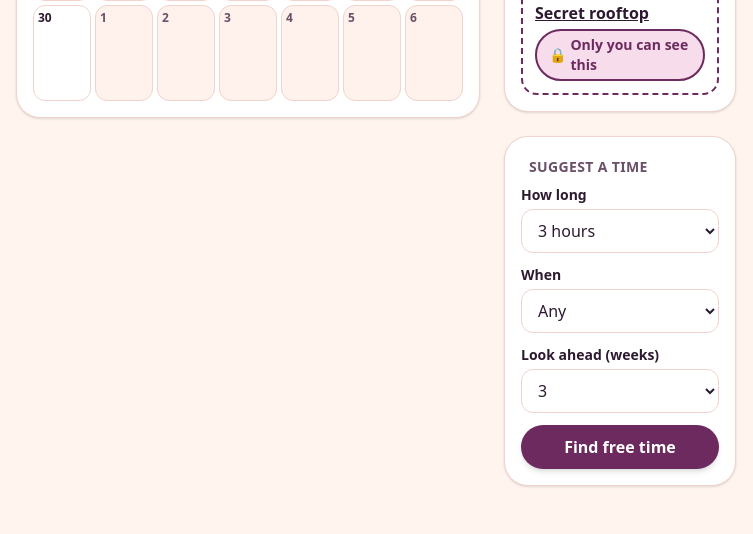
Test: Suggest a time › shows the server's message when the planner is unavailable
(page scrolled)
Click the button "Find free time" at (620, 447), box [521, 425, 719, 469]
(page scrolled)
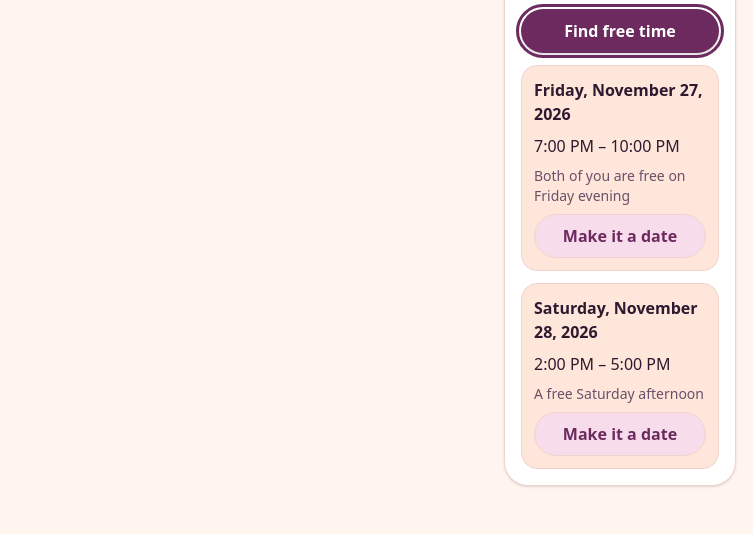
Click the button "Make it a date" below "Friday, November 27, 2026" at (620, 236), box [534, 214, 706, 258]
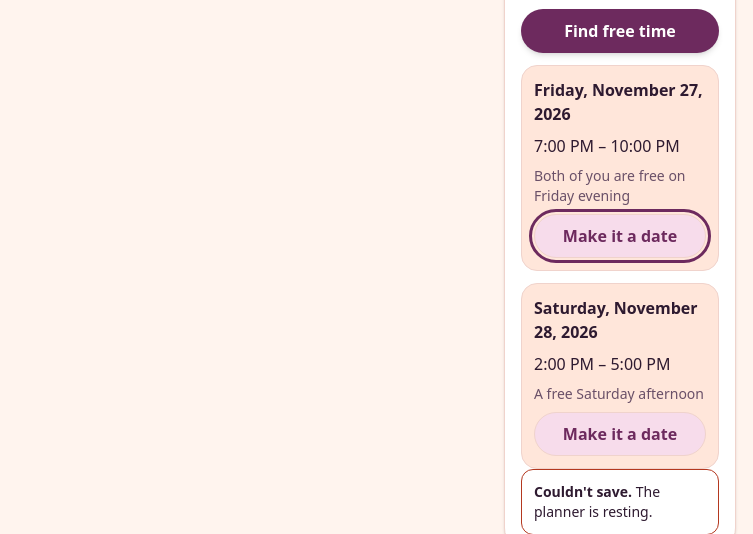
Check: the message shows "The planner is resting.", box [534, 482, 660, 521]
